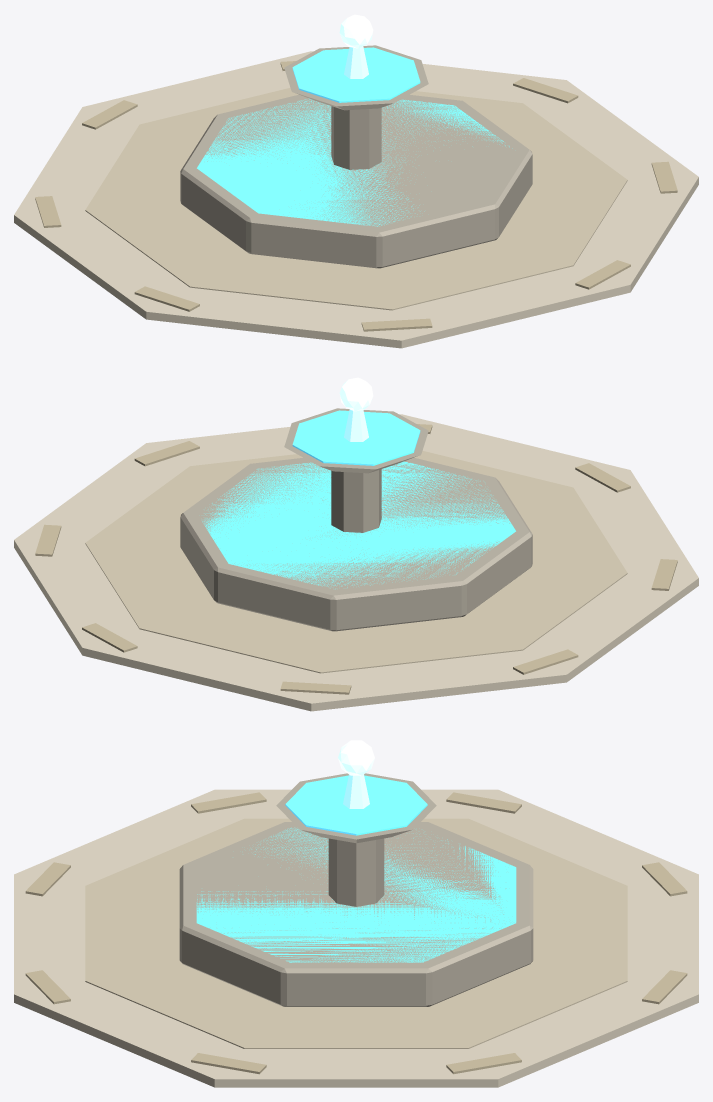
File: fountain.fbx
The picture shows the model from 3 angles, top to bottom: view 1: azimuth 30°, elevation 25°; view 2: azimuth 150°, elevation 25°; view 3: azimuth 270°, elevation 25°; orthographic projection. The views are drawn at different scales.
Visible parts, largest first — view 1: Cylinder, Cylinder.001, Cylinder.002, Cylinder.003, Cylinder.005, Cylinder.004, Cone, Icosphere, Cube.005, Cube.004, Cube, Cube.002 (+4 smaller); view 2: Cylinder, Cylinder.001, Cylinder.002, Cylinder.003, Cylinder.005, Cylinder.004, Cone, Icosphere, Cube.002, Cube.003, Cube.007, Cube.001 (+4 smaller); view 3: Cylinder, Cylinder.001, Cylinder.002, Cylinder.003, Cylinder.005, Cylinder.004, Cone, Icosphere, Cube, Cube.007, Cube.003, Cube.004 (+5 smaller).
Part boxes in pixels (x1,y1,x2,y2): Cylinder: (14,51,698,348); Cylinder.001: (85,88,627,310); Cylinder.002: (180,94,532,268); Cylinder.003: (197,98,512,226); Cylinder.005: (292,47,420,102); Cylinder.004: (331,106,381,169); Cone: (284,45,428,110); Icosphere: (339,14,373,48); Cube.005: (361,318,432,331); Cube.004: (134,286,199,311); Cube: (513,78,578,103); Cube.002: (82,100,137,129); Cylinder: (14,414,698,711); Cylinder.001: (85,451,627,673); Cylinder.002: (180,457,532,631); Cylinder.003: (202,461,515,589); Cylinder.005: (292,410,420,465); Cylinder.004: (331,469,381,532); Cone: (284,408,428,473); Icosphere: (339,377,373,411); Cube.002: (280,681,351,694); Cube.003: (513,649,578,674); Cube.007: (134,441,199,466); Cube.001: (82,623,137,652); Cylinder: (14,789,698,1087); Cylinder.001: (85,818,627,1048); Cylinder.002: (179,822,533,1006); Cylinder.003: (196,827,516,962); Cylinder.005: (285,775,427,835); Cylinder.004: (328,838,384,906); Cone: (276,773,436,843); Icosphere: (338,740,374,775); Cube: (446,1053,521,1074); Cube.007: (191,1053,266,1074); Cube.003: (446,792,521,813); Cube.004: (191,792,266,813).
Bounding box in the file's own units: 22.17 × 7.2 × 22.17.
